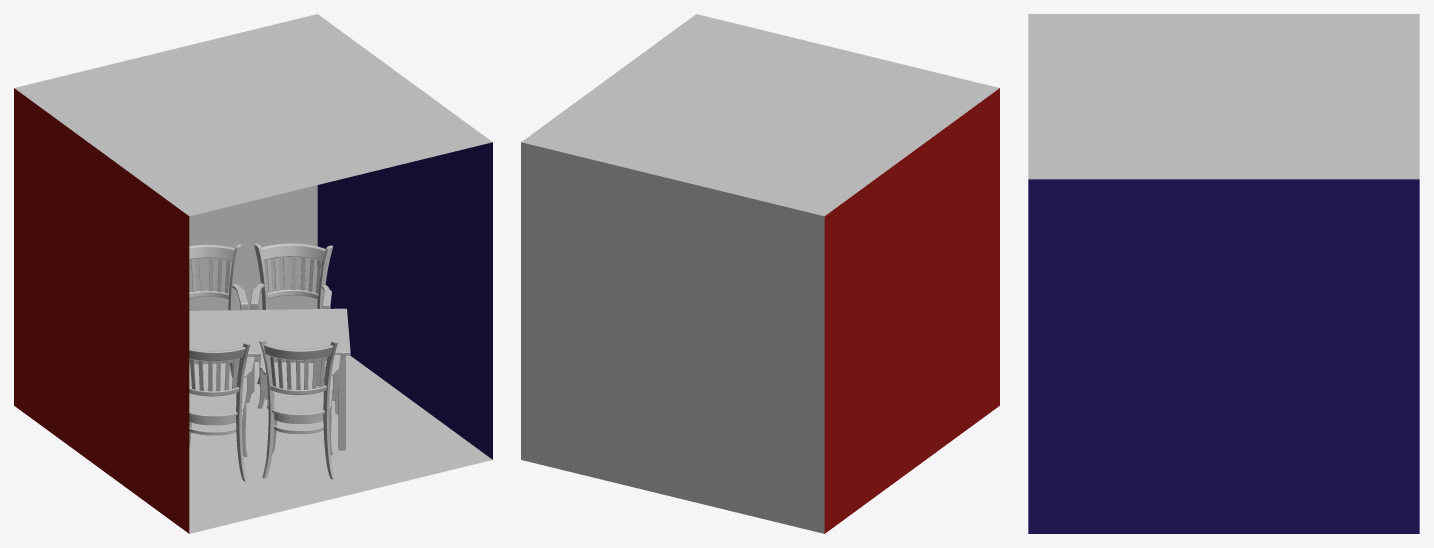
Rendered from cornell-box.obj.
3 views of the same model, side by side, from view 1: azimuth 30°, elevation 25°; view 2: azimuth 150°, elevation 25°; view 3: azimuth 270°, elevation 25° (orthographic). The views are drawn at different scales.
Bounding box in the file's own units: 2 × 2 × 2.
